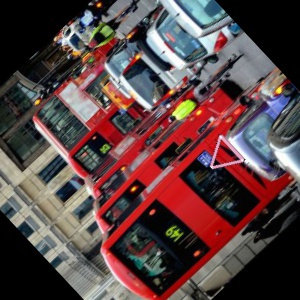triangle: (208, 131, 247, 170)
